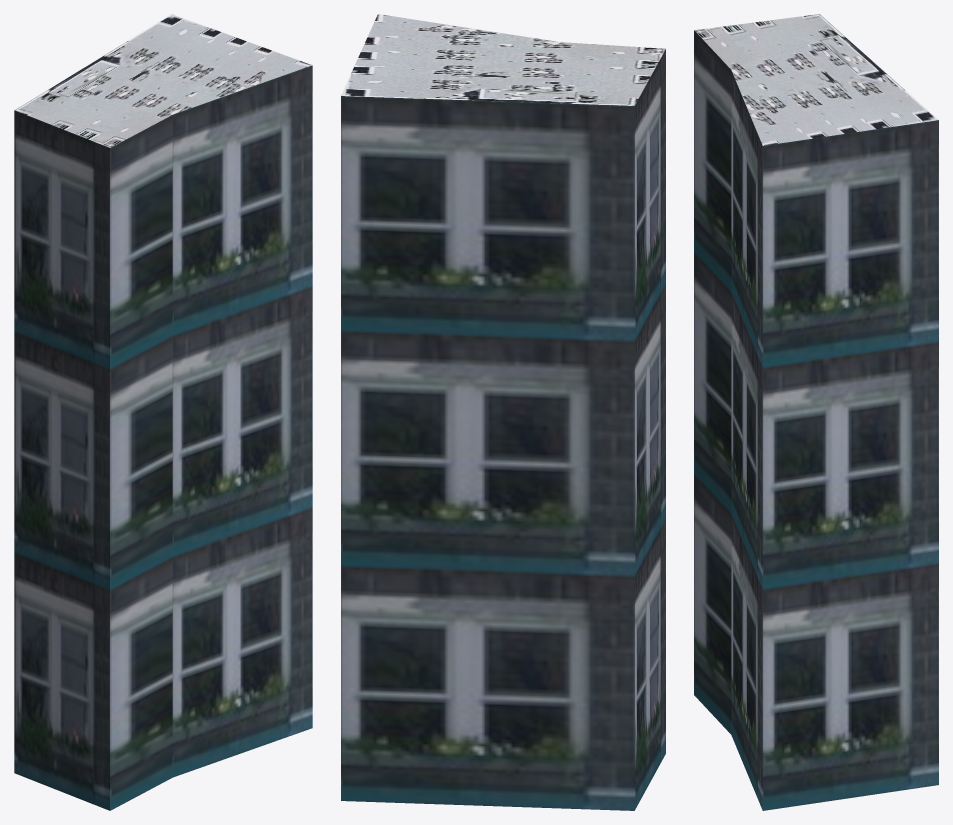
File: ResTex__2825.fbx
3 renders of one model, left to right at view 1: azimuth 30°, elevation 25°; view 2: azimuth 150°, elevation 25°; view 3: azimuth 270°, elevation 25°, orthographic. The views are drawn at different scales.
Visible parts, largest first — view 1: CityEngineMaterial_11_m, CityEngineMaterial_8_m; view 2: CityEngineMaterial_11_m, CityEngineMaterial_8_m; view 3: CityEngineMaterial_11_m, CityEngineMaterial_8_m.
Part boxes in pixels (x1,y1,x2,y2): CityEngineMaterial_11_m: [14, 65, 312, 810]; CityEngineMaterial_8_m: [15, 14, 311, 147]; CityEngineMaterial_11_m: [341, 49, 665, 810]; CityEngineMaterial_8_m: [341, 14, 665, 105]; CityEngineMaterial_11_m: [694, 30, 938, 810]; CityEngineMaterial_8_m: [694, 14, 938, 145].
Bounding box in the file's own units: 3.83 × 9 × 3.
Materials: 2 (2 with a texture image).
